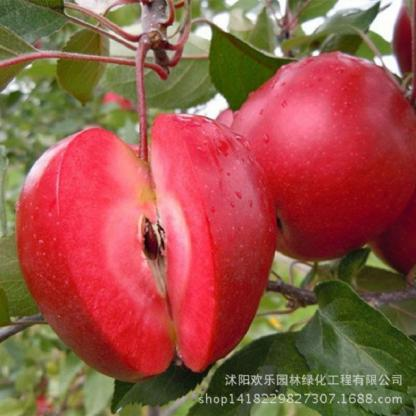apple: (223, 49, 415, 255)
